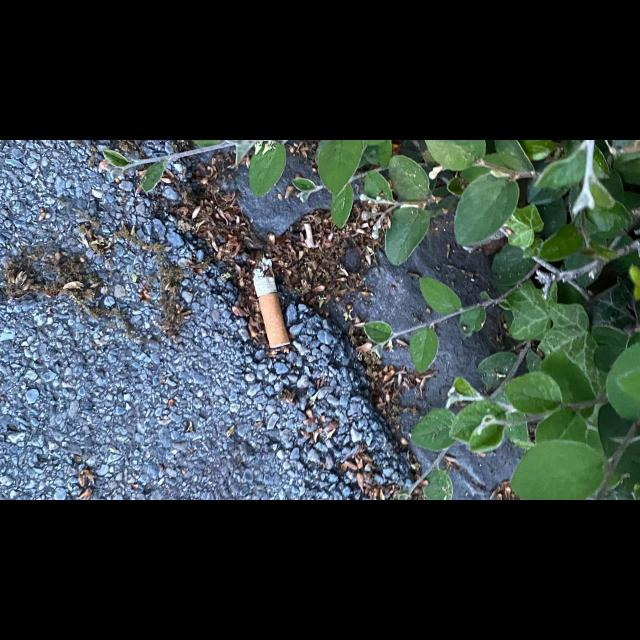cigarette: (252, 252, 290, 349)
